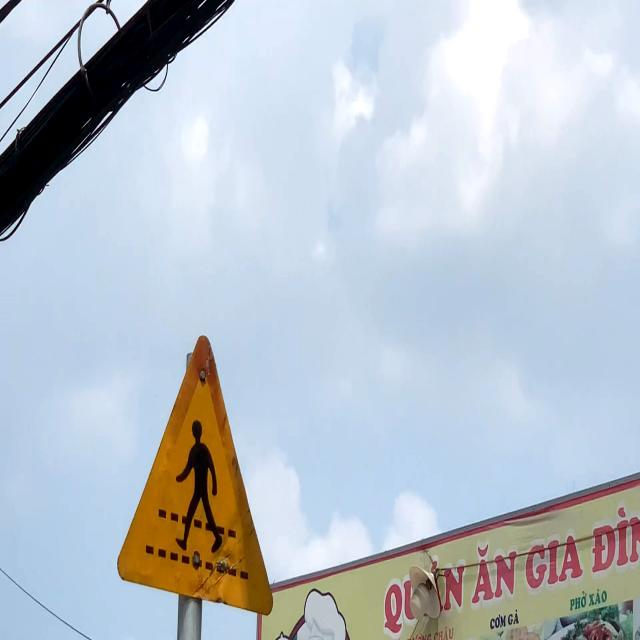Nguoi di bo cat ngang: (117, 332, 276, 619)
